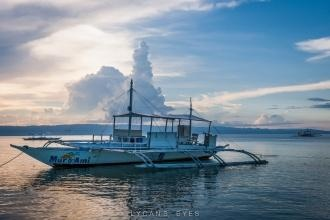otherboat: (8, 120, 224, 174)
